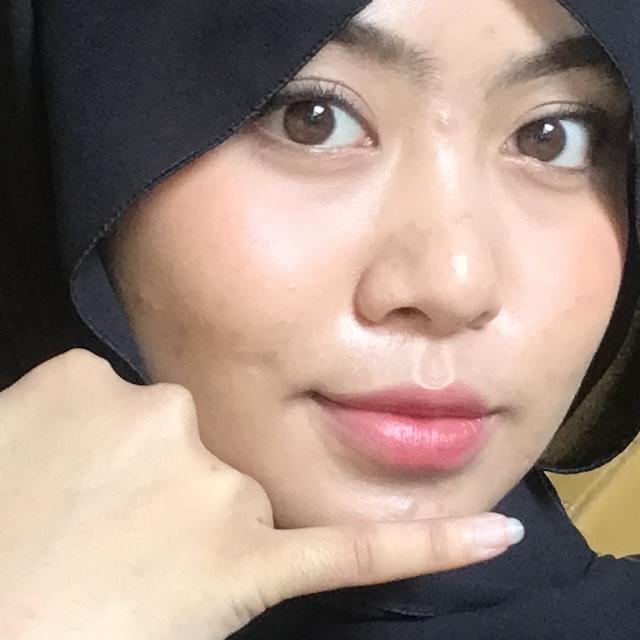telpon: (0, 156, 630, 640)
